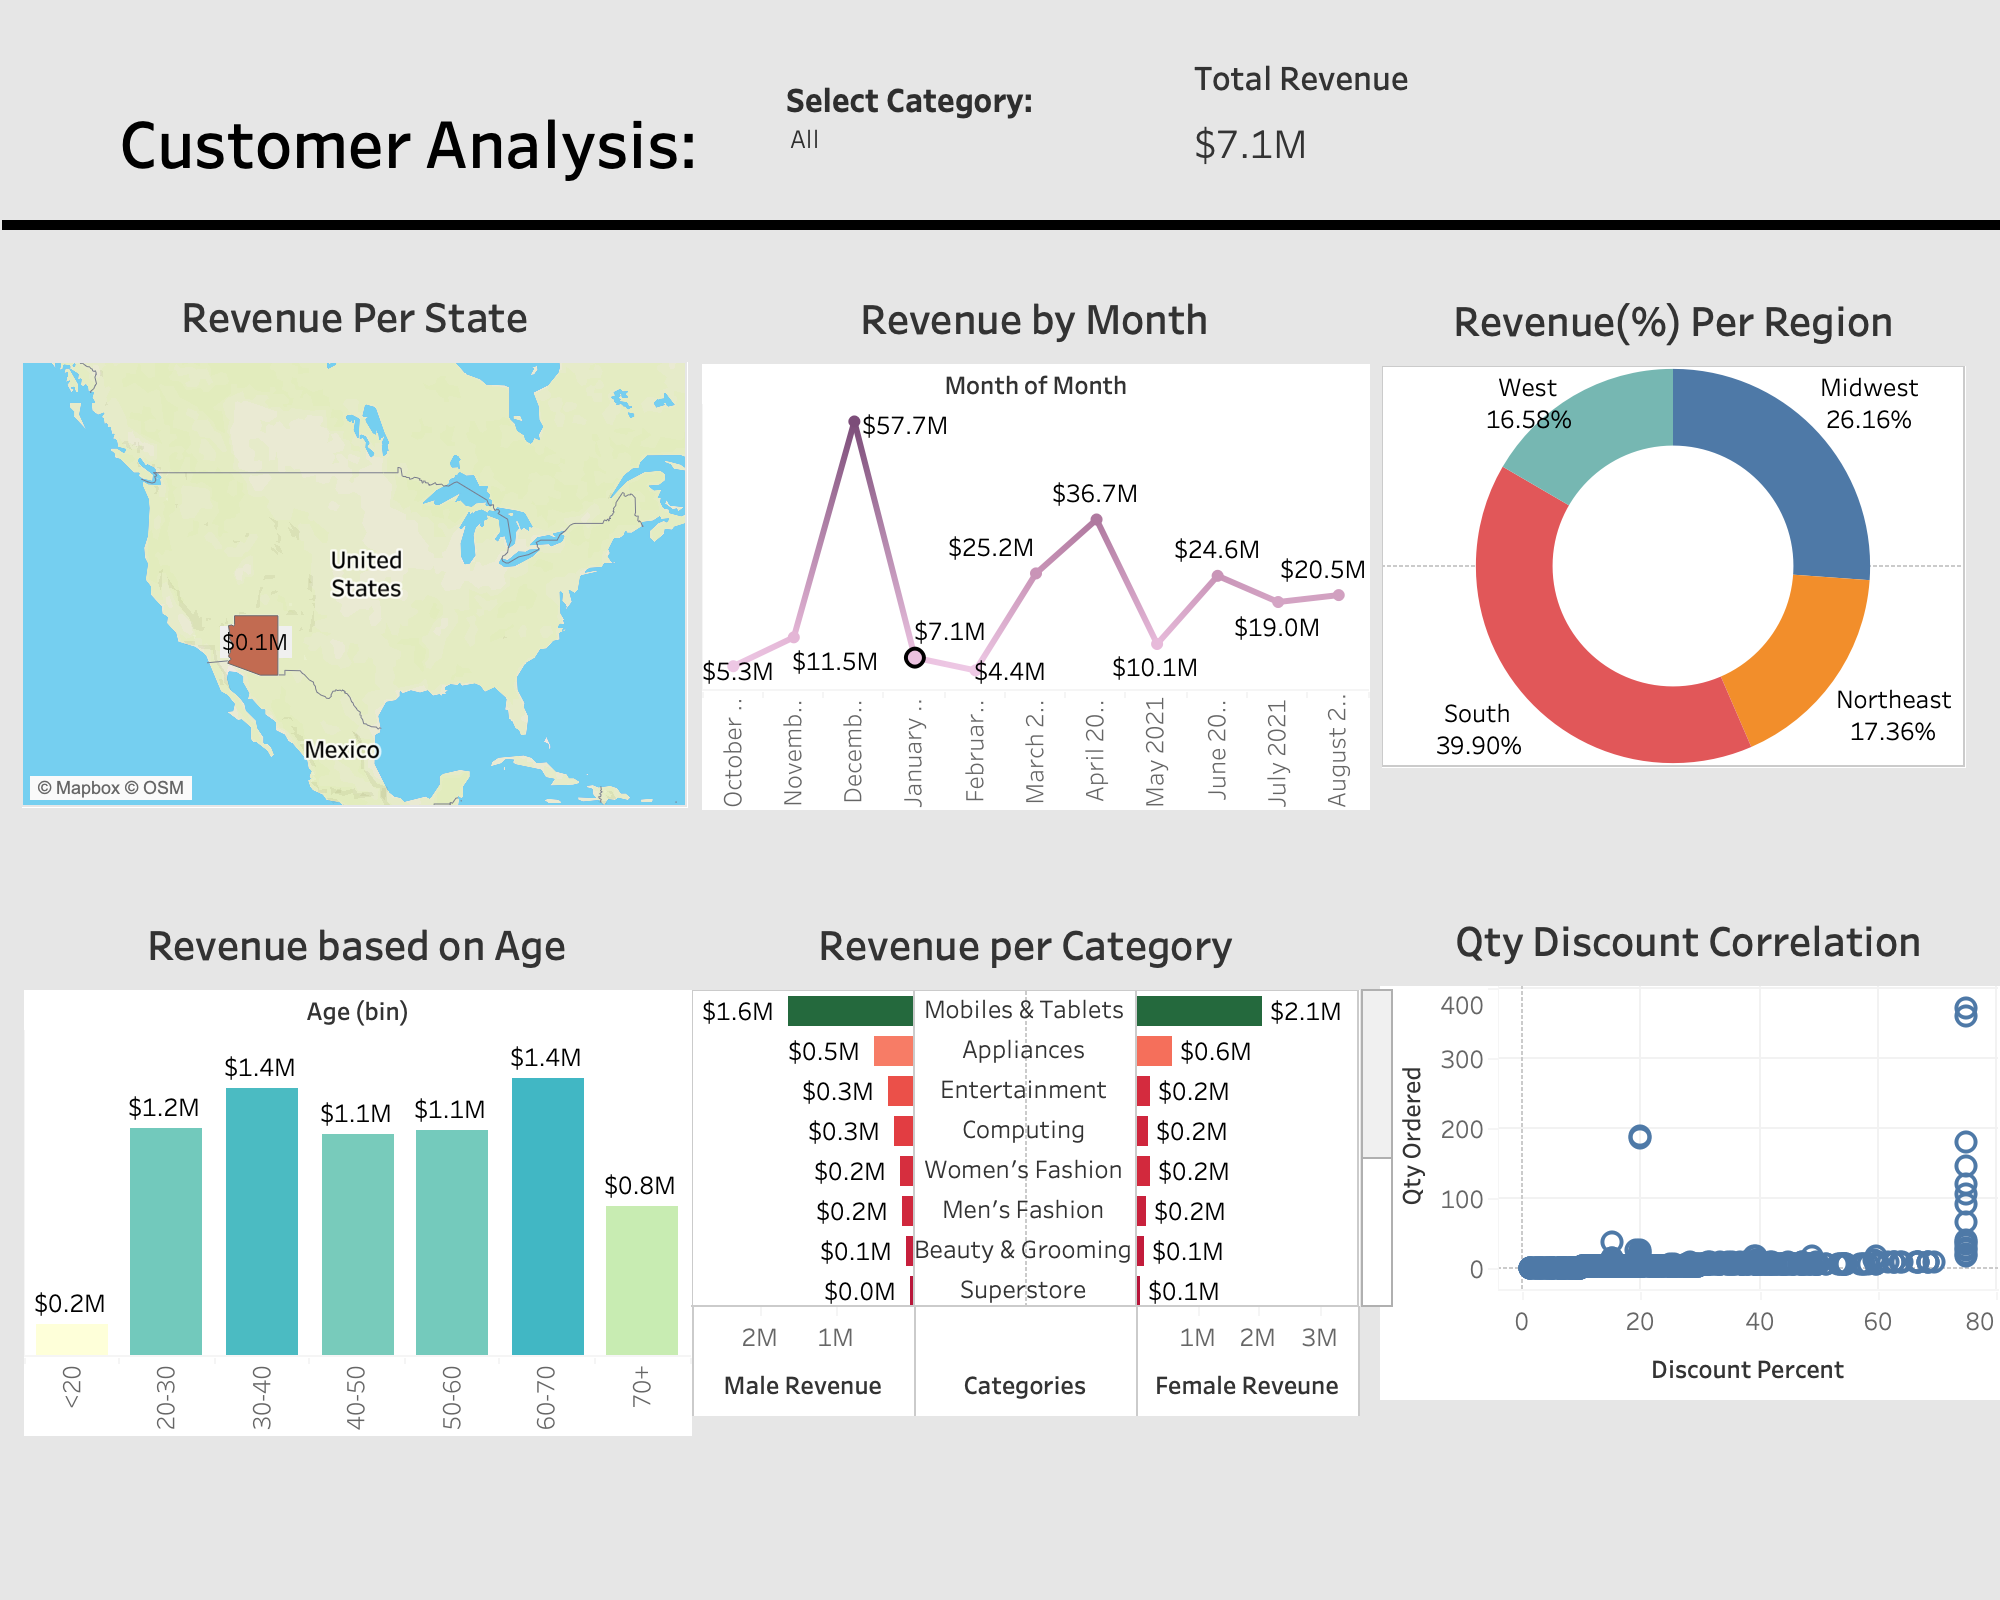

What the dashboard file says about the page in this screenshot:
{"tool":"tableau","page":{"name":"Dashboard 1","canvas":[1000,800],"ordinal":0},"visuals":[{"type":"worksheet","title":"Total Revenue","mark":"Automatic","box":[593,22,218,76]},{"type":"filter","title":"Revenue per Category ","param":"[federated.1tln11u1ix5hx71fct5nc121xfnz].[none:category:nk]","box":[393,38,170,54]},{"type":"text","box":[50,50,340,42]},{"type":"blank","box":[1,110,999,5]},{"type":"worksheet","title":"Revenue Per State","mark":"Automatic","box":[11,138,333,266]},{"type":"worksheet","title":"Revenue by Month","mark":"Automatic","rows":["total"],"cols":["month"],"box":[351,139,333,266]},{"type":"worksheet","title":"Revenue(%) Per Region","mark":"Pie","rows":["Calculation_2652972050836537344","Calculation_2652972050836537344"],"box":[691,140,292,244]},{"type":"worksheet","title":"Qty Discount Correlation ","mark":"Automatic","rows":["qty_ordered"],"cols":["Discount_Percent"],"box":[690,450,309,250]},{"type":"worksheet","title":"Revenue based on Age","mark":"Automatic","rows":["total"],"cols":["Age (bin)"],"box":[12,452,333,266]},{"type":"worksheet","title":"Revenue per Category ","mark":"Automatic","rows":["category"],"cols":["Calculation_2652972050838818818","Calculation_2652972050836537344","Calculation_2652972050838462465"],"box":[346,452,352,257]}]}

Visuals, with their boxes in screenshot pixels (x1, y1, x2, y2), scaled from the page's 1000x800 canvas onto the 2000x1600 screenshot:
"Total Revenue" worksheet: <bbox>1186, 44, 1622, 196</bbox>
"Revenue per Category " filter: <bbox>786, 76, 1126, 184</bbox>
text: <bbox>100, 100, 780, 184</bbox>
blank: <bbox>2, 220, 1999, 230</bbox>
"Revenue Per State" worksheet: <bbox>22, 276, 688, 808</bbox>
"Revenue by Month" worksheet: <bbox>702, 278, 1368, 810</bbox>
"Revenue(%) Per Region" worksheet (Pie marks): <bbox>1382, 280, 1966, 768</bbox>
"Qty Discount Correlation " worksheet: <bbox>1380, 900, 1998, 1400</bbox>
"Revenue based on Age" worksheet: <bbox>24, 904, 690, 1436</bbox>
"Revenue per Category " worksheet: <bbox>692, 904, 1396, 1418</bbox>
